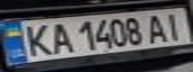0: (109, 16, 130, 47)
1: (72, 18, 96, 52)
4: (93, 16, 112, 48)
8: (124, 15, 148, 46)
A: (45, 20, 75, 54), (142, 11, 172, 43)
I: (160, 10, 190, 40)
K: (18, 20, 54, 57)
